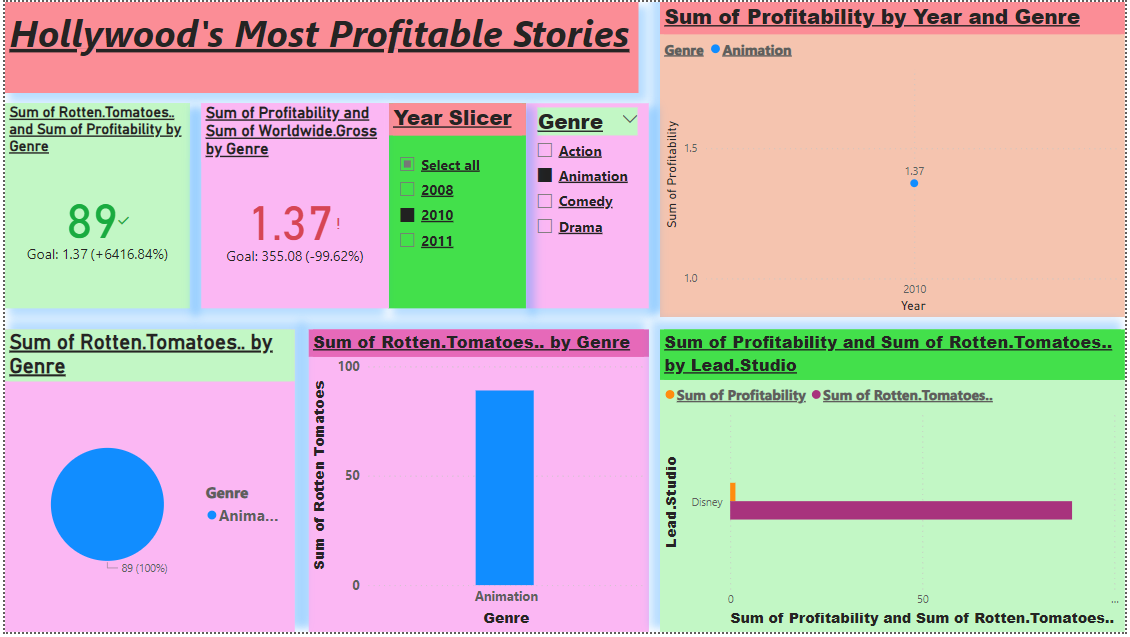

Layout of this report page (visuals, bound fields, positions):
{"tool":"powerbi","page":{"name":"Hollywoods Most Profitable Stories","canvas":[1280,720],"ordinal":0},"visuals":[{"type":"clusteredColumnChart","fields":{"Category":["clean_df.Genre"],"Y":["Sum(clean_df.Rotten.Tomatoes..)"]},"box":[347.1,374.3,388.6,345.7],"z":0},{"type":"lineChart","fields":{"Category":["clean_df.Year"],"Y":["Sum(clean_df.Profitability)"],"Series":["clean_df.Genre"]},"box":[748.6,0,531.4,360],"z":1},{"type":"textbox","box":[0,0,724.3,104.3],"z":2},{"type":"pieChart","fields":{"Series":["clean_df.Genre"],"Y":["Sum(clean_df.Rotten.Tomatoes..)"]},"box":[0,374.3,331.4,345.7],"z":3},{"type":"slicer","fields":{"Values":["clean_df.Genre"]},"box":[595.7,115.7,140,234.3],"z":4},{"type":"slicer","title":"Year Slicer","fields":{"Values":["clean_df.Year"]},"box":[438.6,115.7,157.1,234.3],"z":5},{"type":"kpi","fields":{"Indicator":["Sum(clean_df.Rotten.Tomatoes..)"],"Goal":["Sum(clean_df.Profitability)"],"TrendLine":["clean_df.Genre"]},"box":[0,115.7,211.4,234.3],"z":6},{"type":"kpi","fields":{"TrendLine":["clean_df.Genre"],"Indicator":["Sum(clean_df.Profitability)"],"Goal":["Sum(clean_df.Worldwide.Gross)"]},"box":[224.3,115.7,214.3,234.3],"z":7},{"type":"clusteredBarChart","fields":{"Category":["clean_df.Lead.Studio"],"Y":["Sum(clean_df.Profitability)","Sum(clean_df.Rotten.Tomatoes..)"]},"box":[748.6,374.3,531.4,345.7],"z":8}]}

Visuals, with their boxes in screenshot pixels (x1, y1, x2, y2), scaled from the page's 1280x720 canvas onto the 1130x637 screenshot:
clusteredColumnChart - clean_df.Genre x Sum(clean_df.Rotten.Tomatoes..): rect(306, 331, 649, 636)
lineChart - clean_df.Year x Sum(clean_df.Profitability): rect(661, 0, 1129, 318)
textbox: rect(0, 0, 639, 92)
pieChart - clean_df.Genre x Sum(clean_df.Rotten.Tomatoes..): rect(0, 331, 293, 636)
slicer - clean_df.Genre: rect(526, 102, 649, 310)
"Year Slicer" slicer: rect(387, 102, 526, 310)
kpi - Sum(clean_df.Rotten.Tomatoes..) x Sum(clean_df.Profitability): rect(0, 102, 187, 310)
kpi - clean_df.Genre x Sum(clean_df.Profitability): rect(198, 102, 387, 310)
clusteredBarChart - clean_df.Lead.Studio x Sum(clean_df.Profitability): rect(661, 331, 1129, 636)
